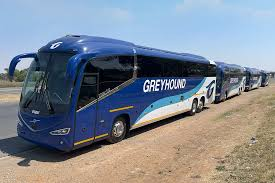bus: (7, 32, 217, 154), (210, 62, 247, 104), (243, 66, 262, 91), (261, 70, 271, 86)
